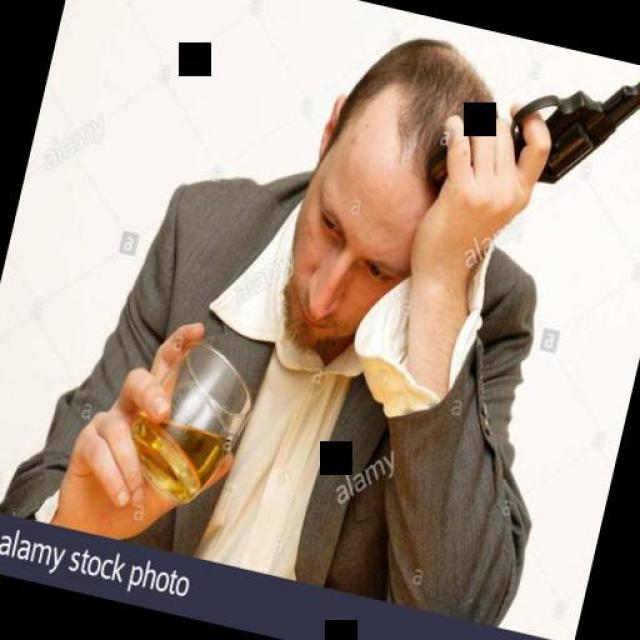gun: (410, 22, 640, 250)
